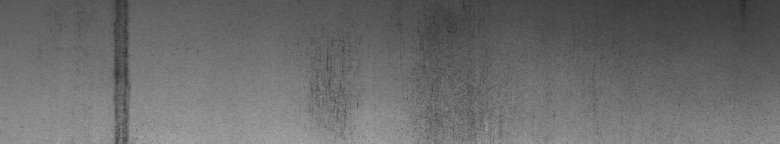hd: (108, 4, 135, 136)
